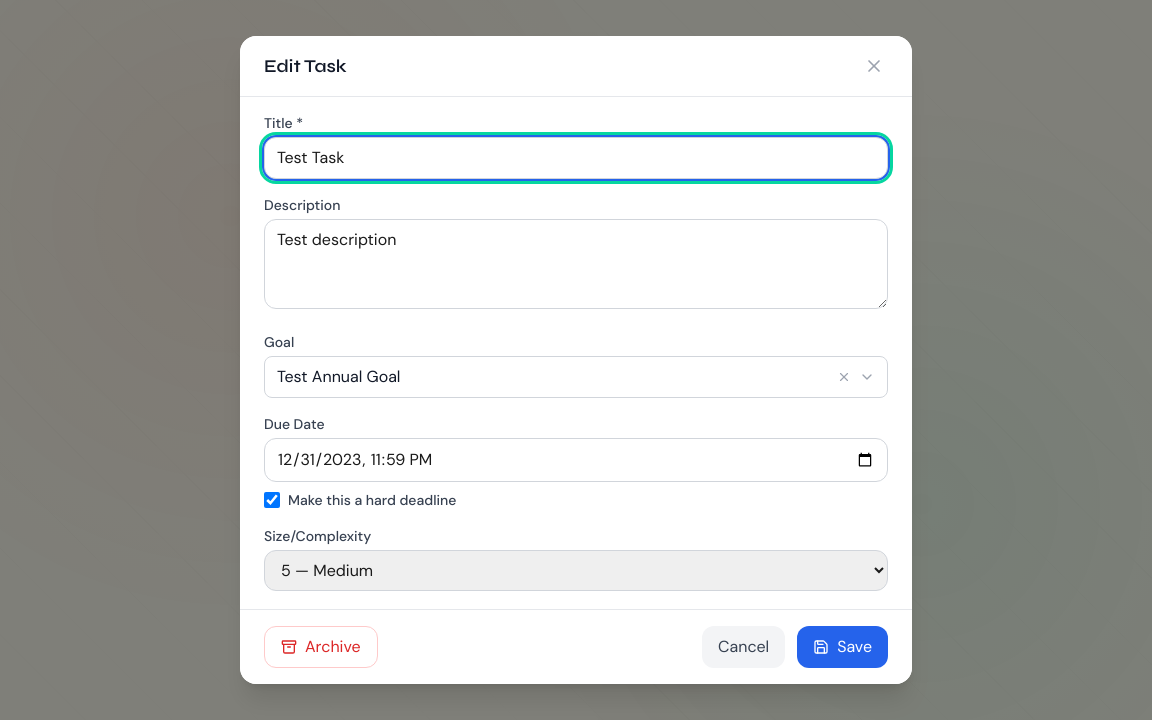
Test: TaskEditDrawer › validates hard deadline date requirement
The width and height of the screenshot is (1152, 720).
Clear date but keep hard deadline checked
Clear the field labelled "Due Date" at [576, 460], box [264,438,888,482]
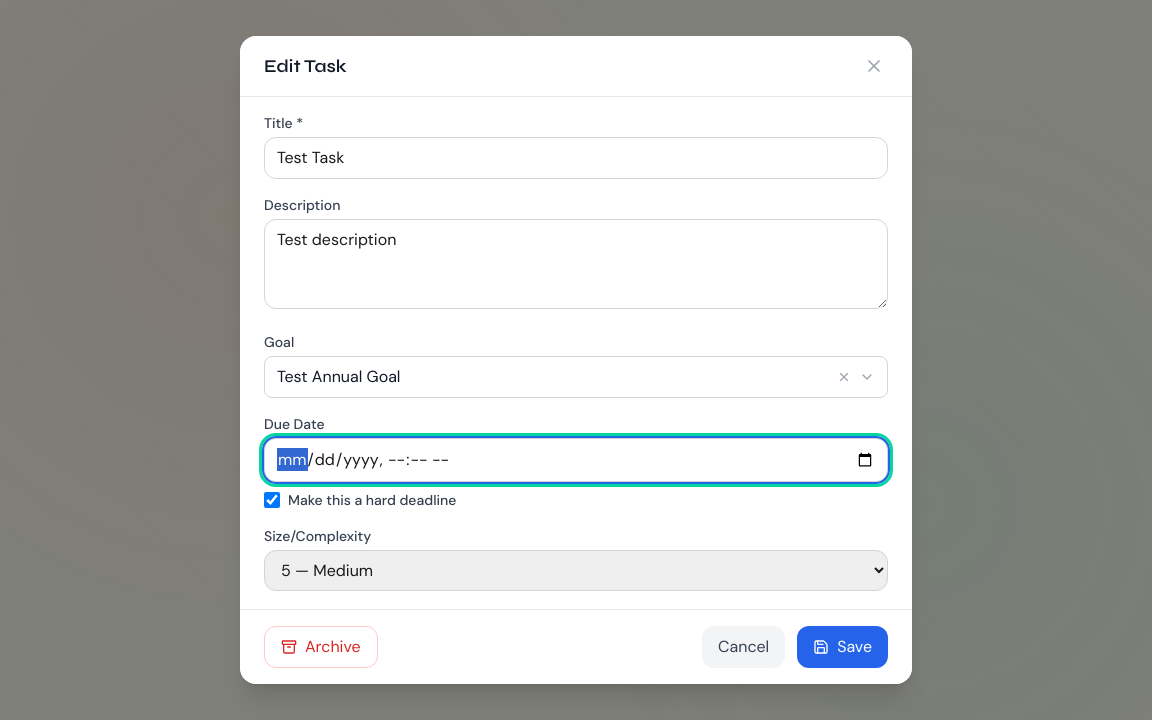
Click the button "Save" at [843, 647], box [797,626,888,668]
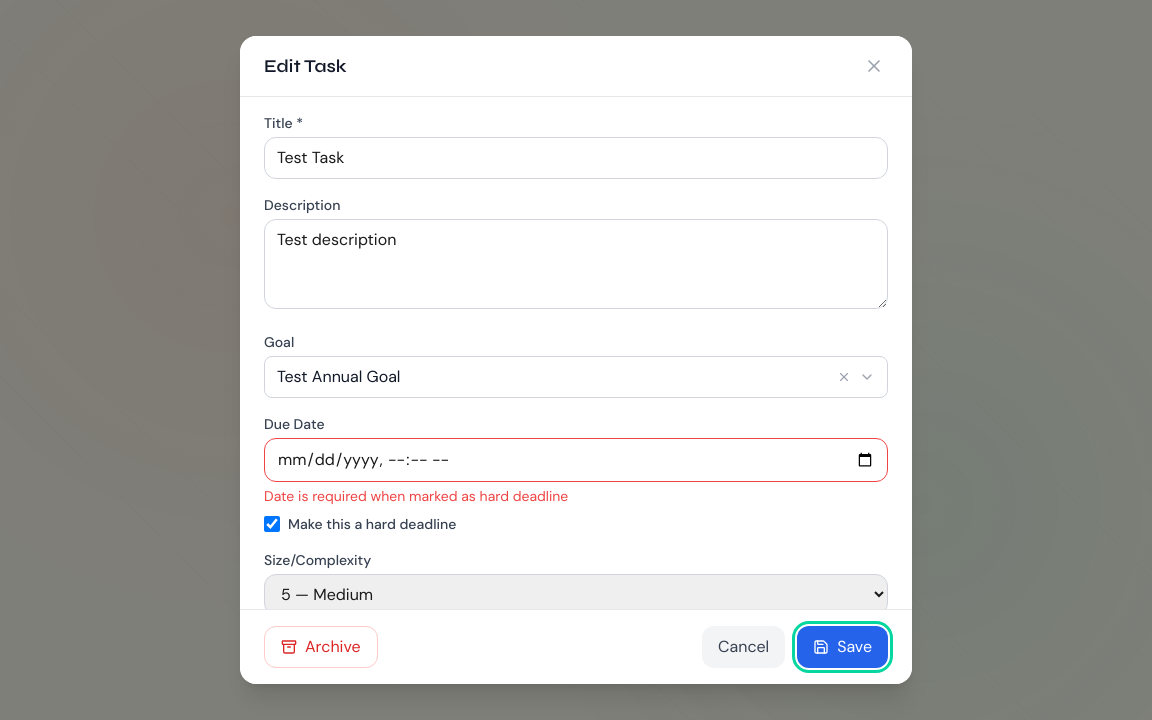
Check: the text "Date is required when marked as hard deadline" is shown, box [264,487,568,505]
